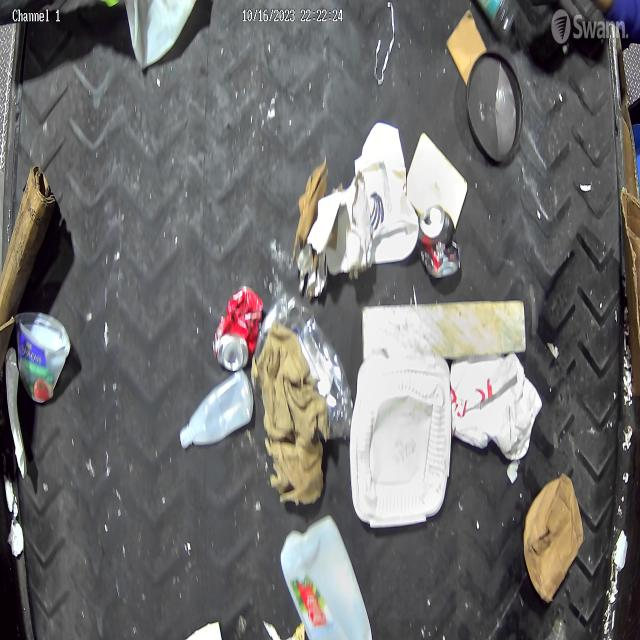can: (214, 284, 262, 370), (416, 203, 460, 279)
non_white_jug: (279, 514, 371, 638)
